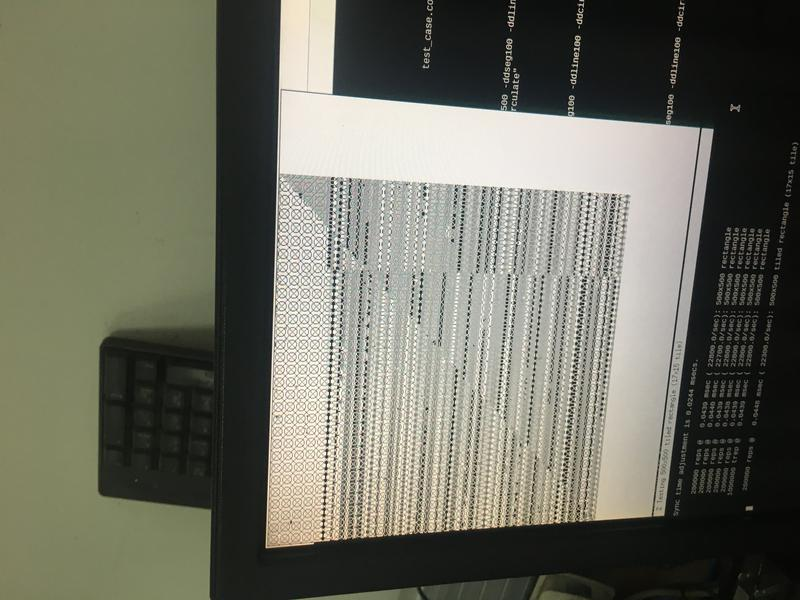xrandr_pass: (271, 168, 643, 531)
